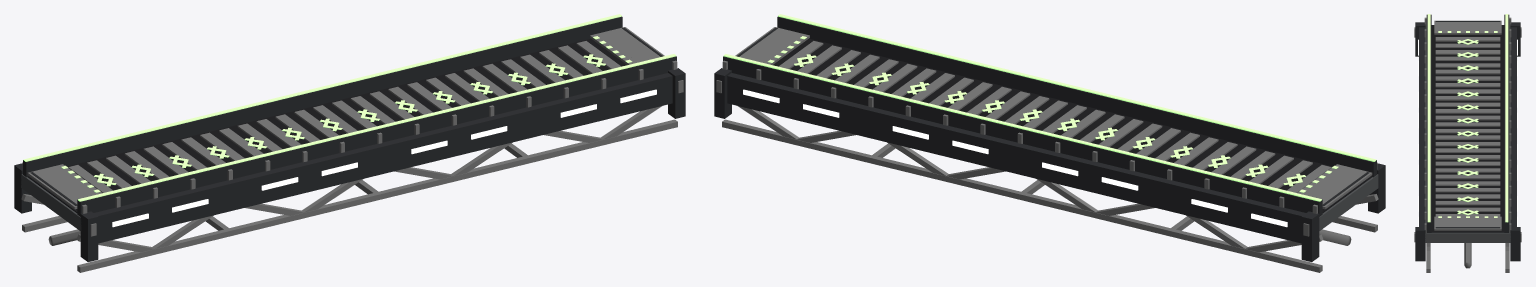
Rendered from Deck_Conveyor_Belt_v4_16.glb.
The picture shows the model from 3 angles, left to right: view 1: azimuth 30°, elevation 25°; view 2: azimuth 150°, elevation 25°; view 3: azimuth 270°, elevation 25°; orthographic projection. The views are drawn at different scales.
Visible parts, largest first — view 1: Deck_Conveyor_Belt_v4_16, Treads, TreadsRev; view 2: Deck_Conveyor_Belt_v4_16, Treads, TreadsRev; view 3: Deck_Conveyor_Belt_v4_16, Treads, TreadsRev.
Boxes of the visible parts, left/top/right/bottom form: Deck_Conveyor_Belt_v4_16: left=14, top=14, right=685, bottom=272; Treads: left=68, top=41, right=620, bottom=192; TreadsRev: left=68, top=41, right=620, bottom=192; Deck_Conveyor_Belt_v4_16: left=714, top=14, right=1385, bottom=272; Treads: left=779, top=41, right=1331, bottom=192; TreadsRev: left=779, top=41, right=1330, bottom=192; Deck_Conveyor_Belt_v4_16: left=1414, top=14, right=1521, bottom=272; Treads: left=1435, top=37, right=1500, bottom=216; TreadsRev: left=1435, top=37, right=1500, bottom=216.
Bounding box in the file's own units: 16.05 × 1.83 × 3.48.
